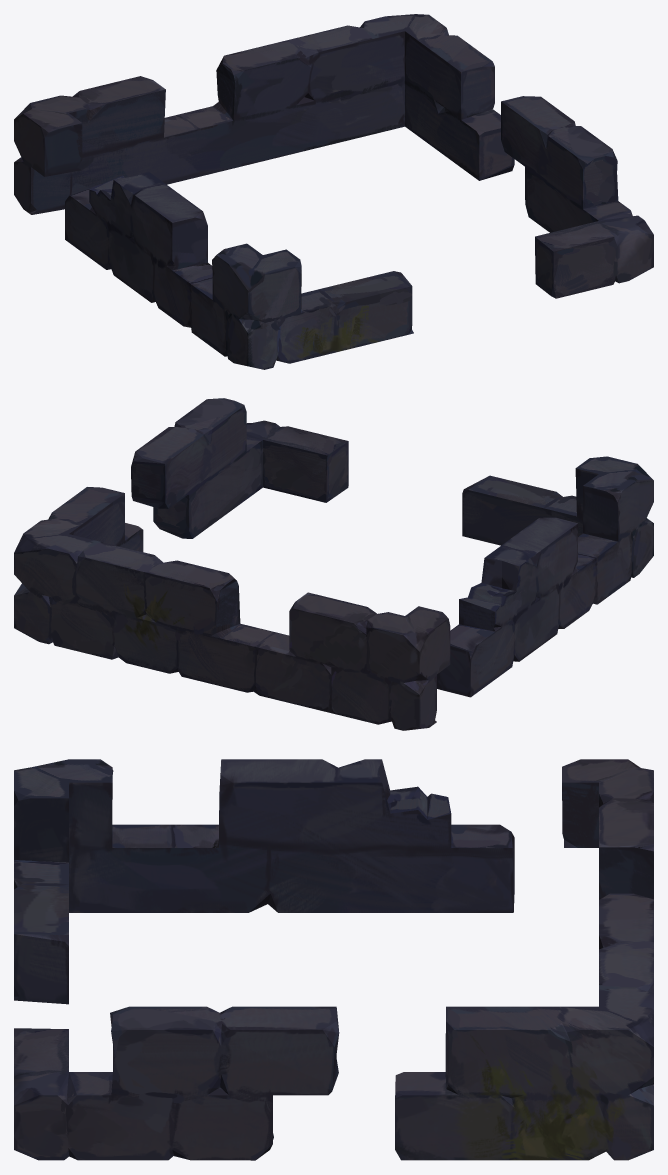
File: Ruins12.fbx
3 views of the same model, one above another, from view 1: azimuth 30°, elevation 25°; view 2: azimuth 150°, elevation 25°; view 3: azimuth 270°, elevation 25° (orthographic). The views are drawn at different scales.
Visible parts, largest first — view 1: Ruins12; view 2: Ruins12; view 3: Ruins12.
Boxes of the visible parts, x1,y1,x2,y2 form: Ruins12: (14,14,653,369); Ruins12: (14,398,653,730); Ruins12: (14,759,653,1160).
Size of the model in its own units: 4.88 by 1.1 by 4.88.
Materials: 1 (1 with a texture image).
